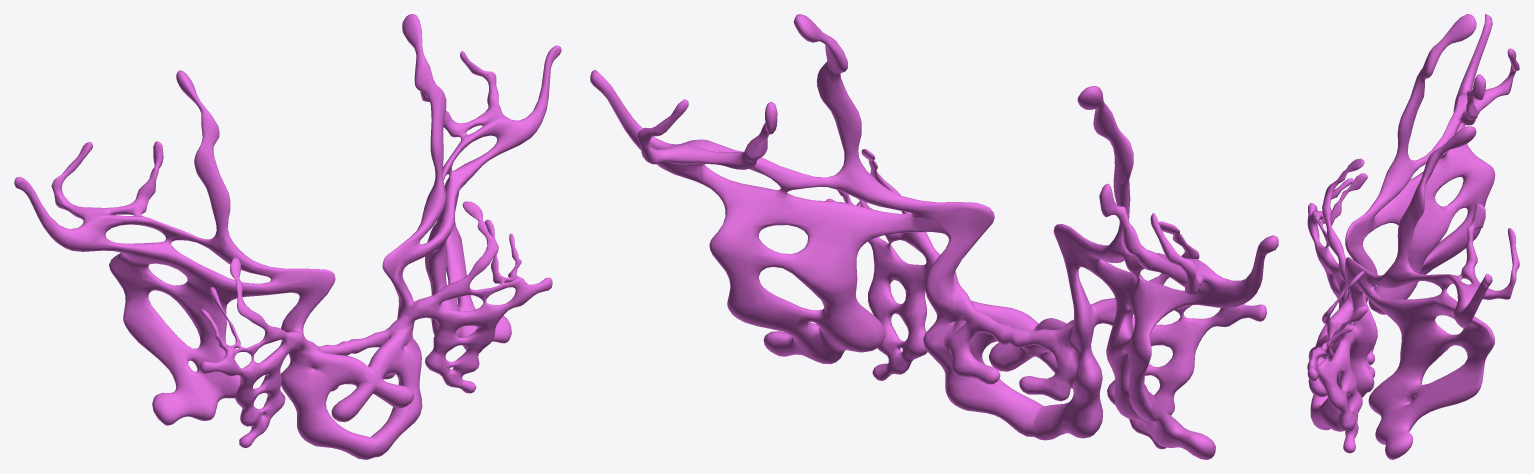
Rendered from pinkmask.gltf.
The picture shows the model from 3 angles, left to right: view 1: azimuth 30°, elevation 25°; view 2: azimuth 150°, elevation 25°; view 3: azimuth 270°, elevation 25°; orthographic projection. The views are drawn at different scales.
Parts seen in each view (by area): view 1: Mball.035; view 2: Mball.035; view 3: Mball.035.
Part boxes in pixels (x1,y1,x2,y2): Mball.035: [14, 14, 561, 459]; Mball.035: [590, 14, 1278, 459]; Mball.035: [1307, 14, 1519, 459].
Size of the model in its own units: 5.29 by 3.33 by 1.81.
